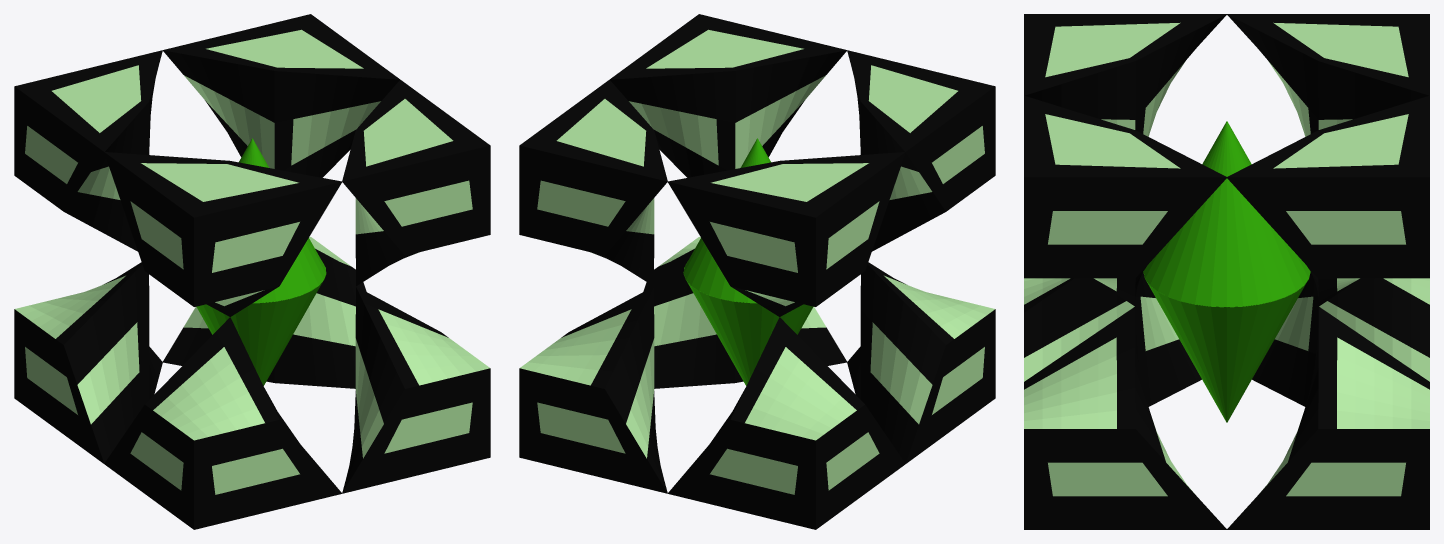
The model's file is Artifact health.fbx.
The picture shows the model from 3 angles, left to right: view 1: azimuth 30°, elevation 25°; view 2: azimuth 150°, elevation 25°; view 3: azimuth 270°, elevation 25°; orthographic projection. The views are drawn at different scales.
Parts seen in each view (by area): view 1: Cube, Cone; view 2: Cube, Cone; view 3: Cube, Cone.
Boxes of the visible parts, x1,y1,x2,y2 form: Cube: (14,14,490,529); Cone: (196,138,326,385); Cube: (519,14,995,529); Cone: (683,138,813,385); Cube: (1024,14,1429,529); Cone: (1143,121,1310,422).
Size of the model in its own units: 694 by 698 by 728.
